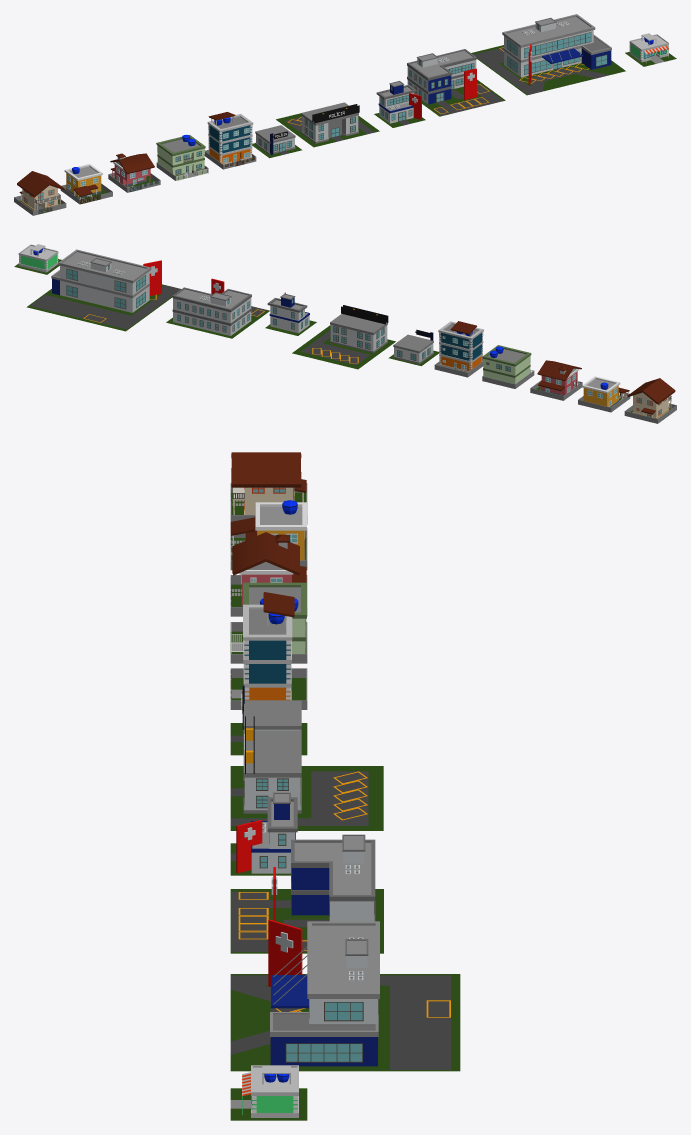
Rendered from Todos.FBX.
The picture shows the model from 3 angles, top to bottom: view 1: azimuth 30°, elevation 25°; view 2: azimuth 150°, elevation 25°; view 3: azimuth 270°, elevation 25°; orthographic projection. The views are drawn at different scales.
Visible parts, largest first — view 1: hospital G, hospital M, predio 02, policia M, predio 01, hospital G piso entrada, hospital P, casa 01, hospital G grama, casa 03, casa 02, hospital M piso entrada (+4 smaller); view 2: hospital G, hospital M, policia M, hospital G piso entrada, predio 02, predio 01, casa 01, hospital P, casa 03, casa 02, policia, policia M piso entrada (+9 smaller); view 3: hospital G, hospital G piso entrada, hospital M, hospital G grama, predio 02, policia M, hospital P, casa 01, policia M piso entrada, policia M grama, casa 03, loja 01 (+5 smaller).
Part boxes in pixels (x1=…): hospital G: x1=502, y1=14, x2=611, y2=85; hospital M: x1=407, y1=49, x2=476, y2=104; predio 02: x1=207, y1=112, x2=253, y2=165; policia M: x1=301, y1=102, x2=359, y2=143; predio 01: x1=156, y1=134, x2=205, y2=177; hospital G piso entrada: x1=473, y1=47, x2=609, y2=94; hospital P: x1=376, y1=81, x2=421, y2=123; casa 01: x1=17, y1=171, x2=64, y2=211; hospital G grama: x1=471, y1=45, x2=625, y2=95; casa 03: x1=110, y1=153, x2=154, y2=187; casa 02: x1=64, y1=164, x2=102, y2=203; hospital M piso entrada: x1=433, y1=83, x2=503, y2=115; hospital G: x1=51, y1=249, x2=161, y2=312; hospital M: x1=172, y1=278, x2=251, y2=335; policia M: x1=330, y1=305, x2=388, y2=352; hospital G piso entrada: x1=30, y1=285, x2=181, y2=329; predio 02: x1=438, y1=321, x2=483, y2=372; predio 01: x1=482, y1=345, x2=531, y2=383; casa 01: x1=627, y1=378, x2=675, y2=418; hospital P: x1=267, y1=292, x2=309, y2=333; casa 03: x1=537, y1=360, x2=581, y2=395; casa 02: x1=582, y1=376, x2=629, y2=407; policia: x1=393, y1=334, x2=433, y2=364; policia M piso entrada: x1=301, y1=330, x2=370, y2=365; hospital G: x1=268, y1=919, x2=379, y2=1066; hospital G piso entrada: x1=230, y1=975, x2=451, y2=1069; hospital M: x1=271, y1=834, x2=375, y2=921; hospital G grama: x1=230, y1=974, x2=460, y2=1071; predio 02: x1=243, y1=592, x2=294, y2=700; policia M: x1=243, y1=716, x2=301, y2=813; hospital P: x1=236, y1=792, x2=297, y2=873; casa 01: x1=231, y1=452, x2=306, y2=514; policia M piso entrada: x1=230, y1=771, x2=368, y2=825; policia M grama: x1=230, y1=766, x2=383, y2=830; casa 03: x1=232, y1=532, x2=306, y2=606; loja 01: x1=242, y1=1065, x2=298, y2=1117.
Size of the model in its own units: 764 by 49.57 by 118.
